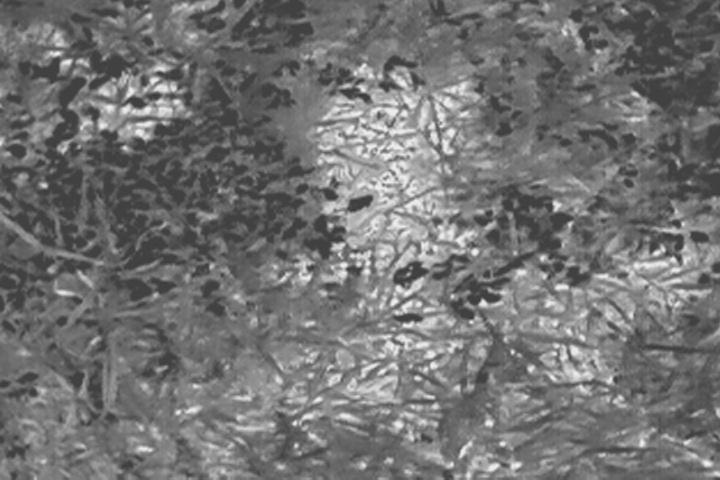landmine: (309, 54, 490, 256)
